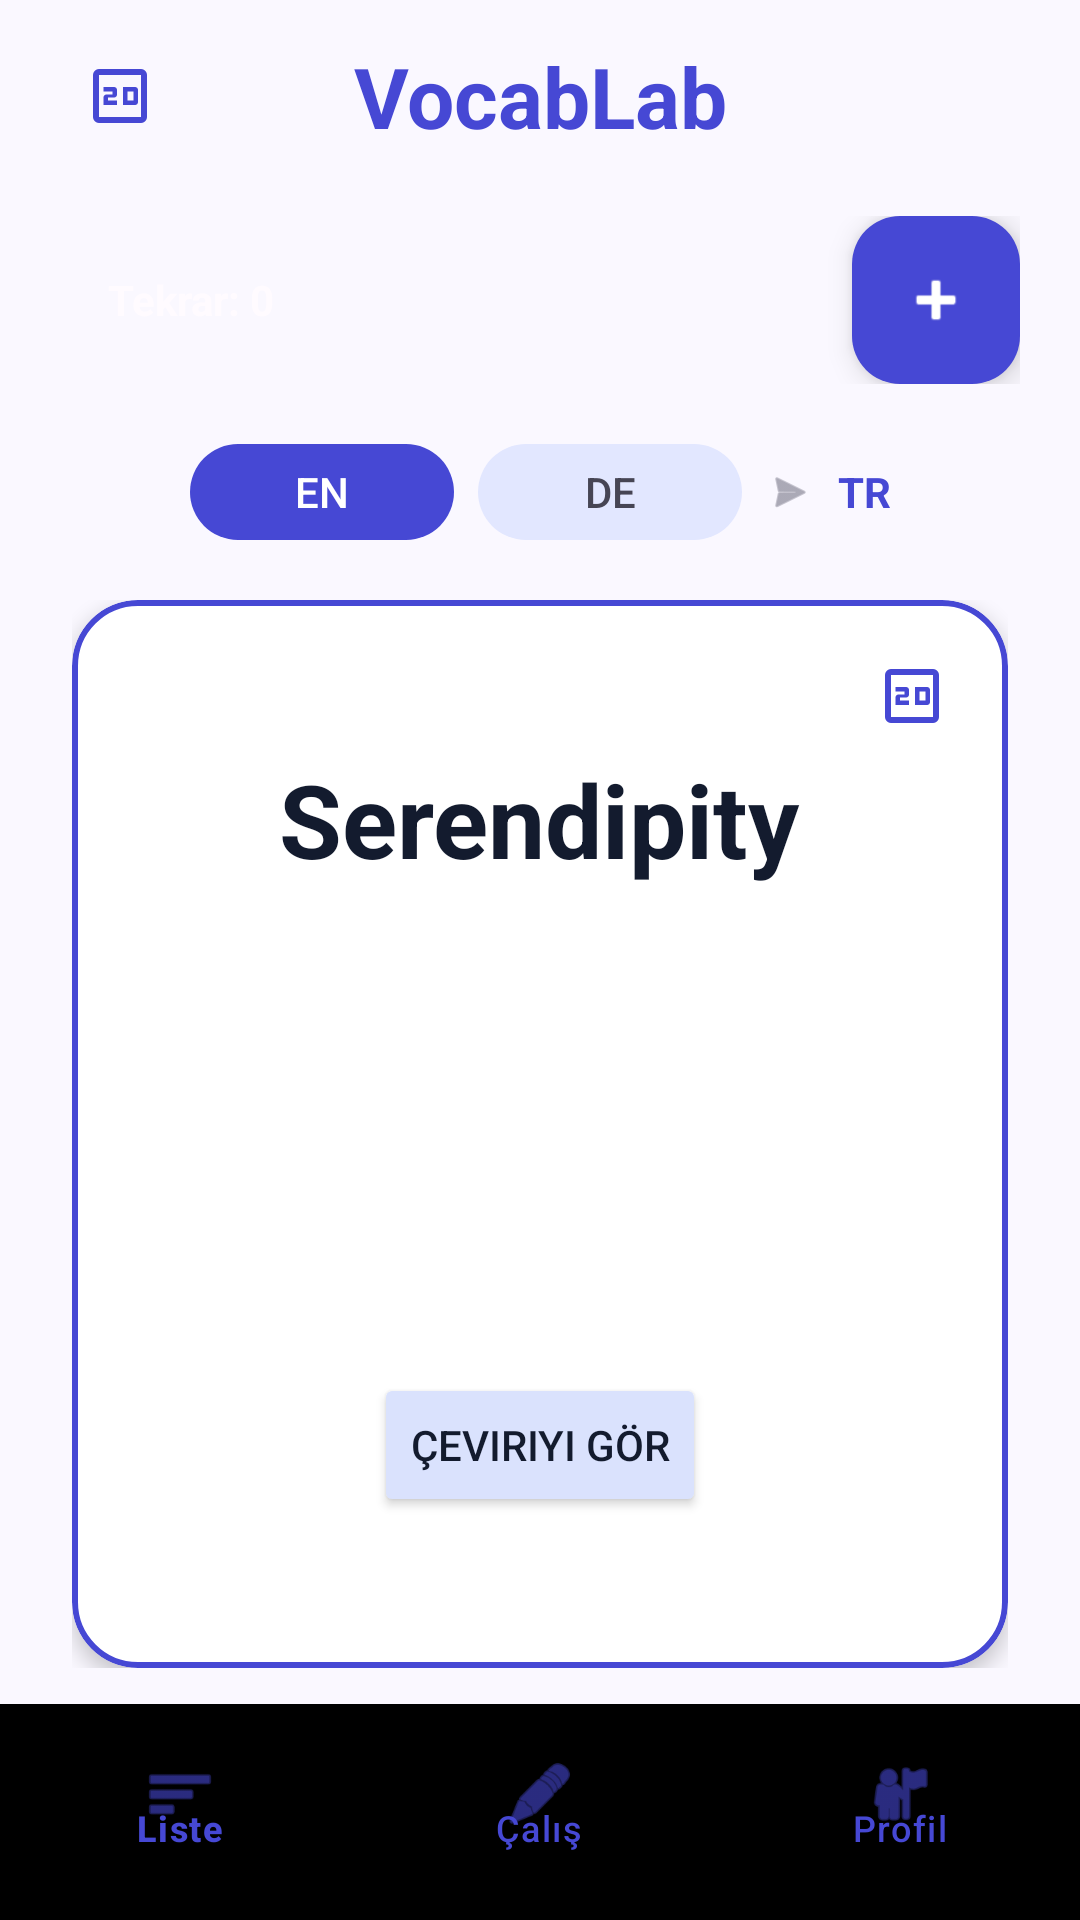

Screen size 1080*1920. Icon name, then its center in pixels as point (x, y):
add: point (936, 300)
send: point (790, 492)
